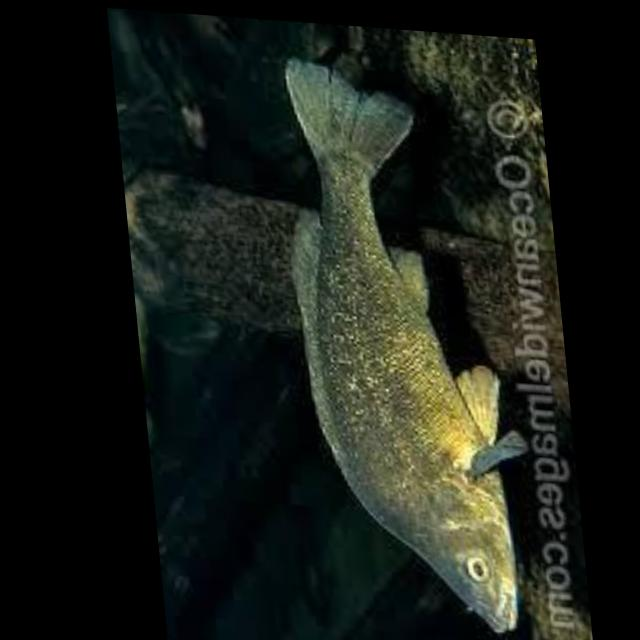Seabass: (266, 57, 548, 639)
